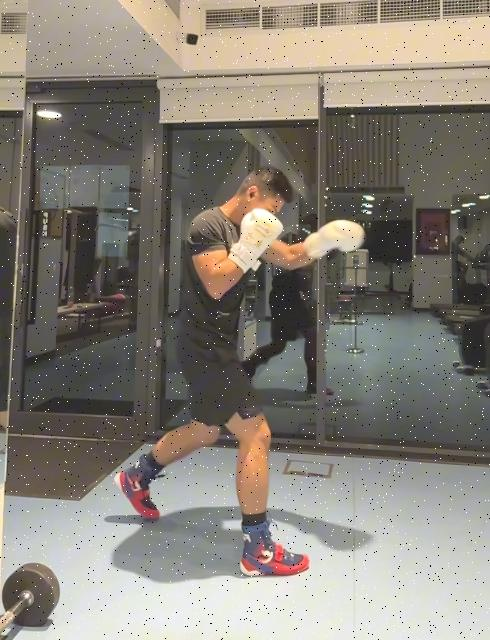punch: (115, 165, 365, 579)
